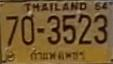0: (20, 16, 34, 44)
2: (78, 14, 91, 44)
3: (93, 13, 107, 43), (47, 15, 60, 44)
5: (62, 14, 75, 43)
7: (5, 15, 18, 45)
KPT: (28, 48, 86, 61)
